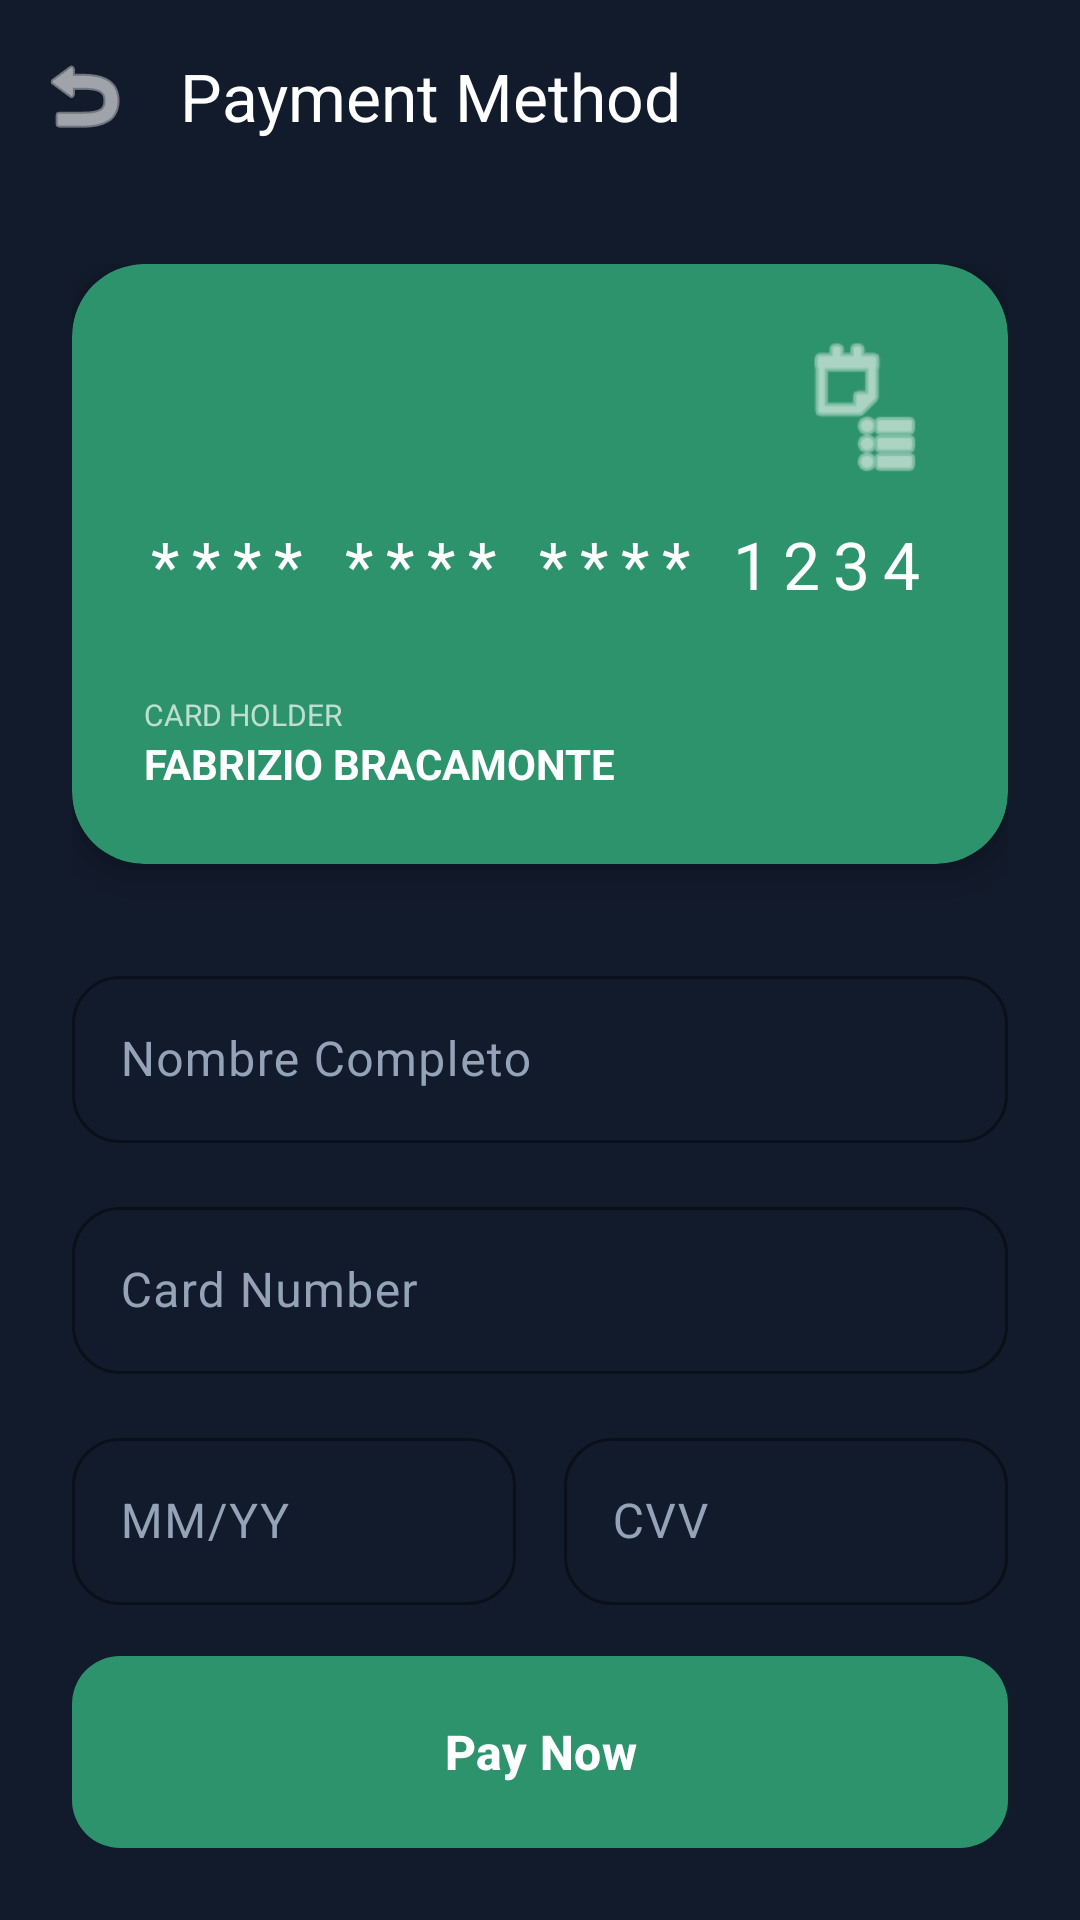

Named icons in this screenshot (1080w x 1920h) and their bounding boxes, (x1, y1, x2, y2):
agenda: (814, 343, 915, 471)
